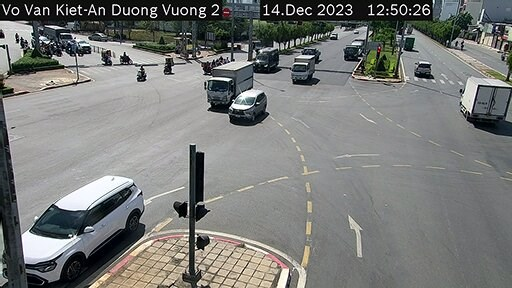car: (18, 170, 140, 280), (225, 88, 271, 132), (415, 58, 432, 82)
truck: (463, 66, 506, 133), (200, 62, 246, 110), (292, 54, 320, 90)
